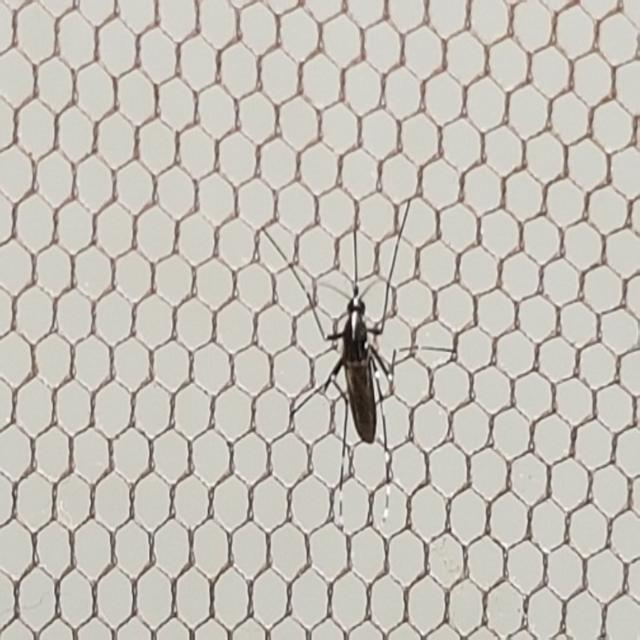albopictus: (262, 245, 453, 468)
